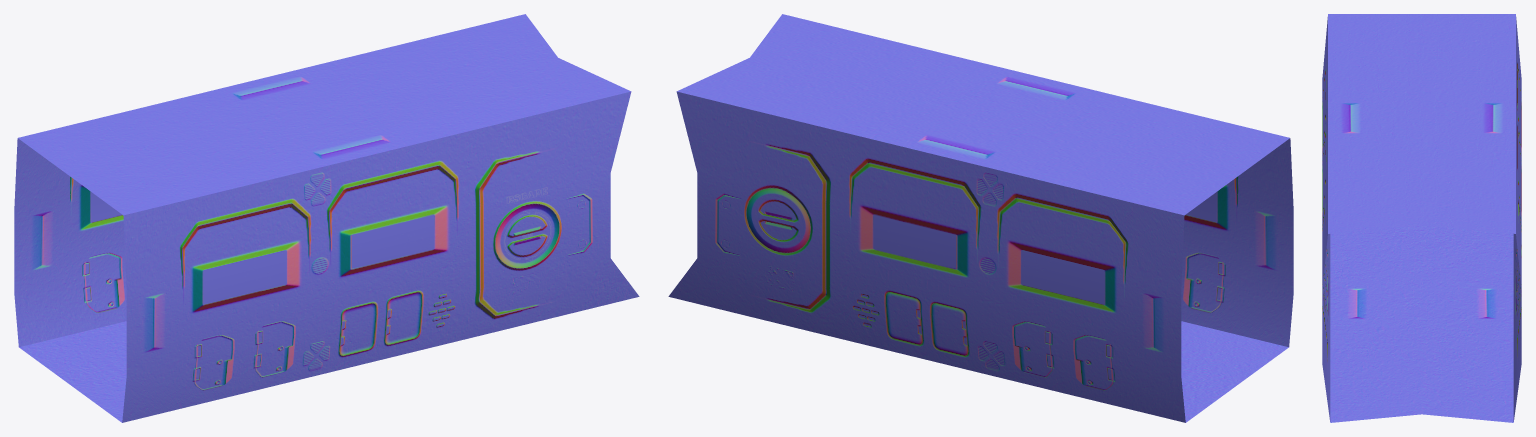
Rendered from Generic_Module_AirlockLink.FBX.
3 views of the same model, side by side, from view 1: azimuth 30°, elevation 25°; view 2: azimuth 150°, elevation 25°; view 3: azimuth 270°, elevation 25° (orthographic). The views are drawn at different scales.
Parts seen in each view (by area): view 1: Generic_Module_AirlockLink; view 2: Generic_Module_AirlockLink; view 3: Generic_Module_AirlockLink.
Boxes of the visible parts, <box> form: Generic_Module_AirlockLink: <box>14,14,639,422</box>; Generic_Module_AirlockLink: <box>668,14,1293,422</box>; Generic_Module_AirlockLink: <box>1322,14,1521,422</box>.
Bounding box in the file's own units: 1081 × 417 × 407.
